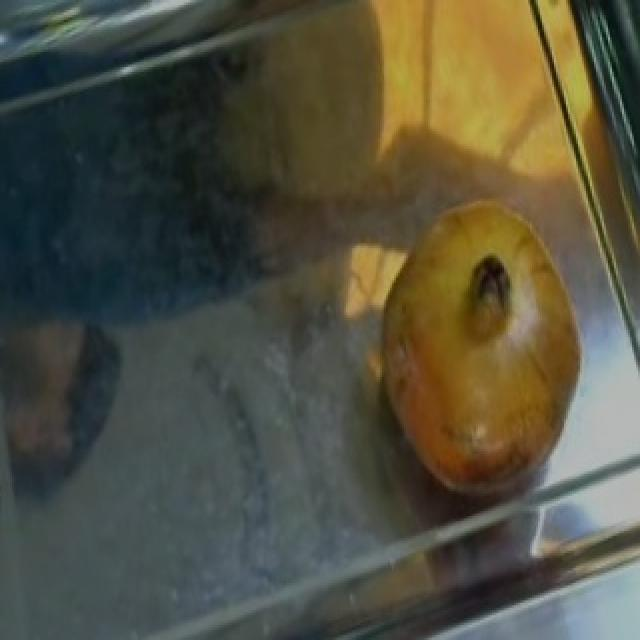fruit: (356, 168, 612, 416)
